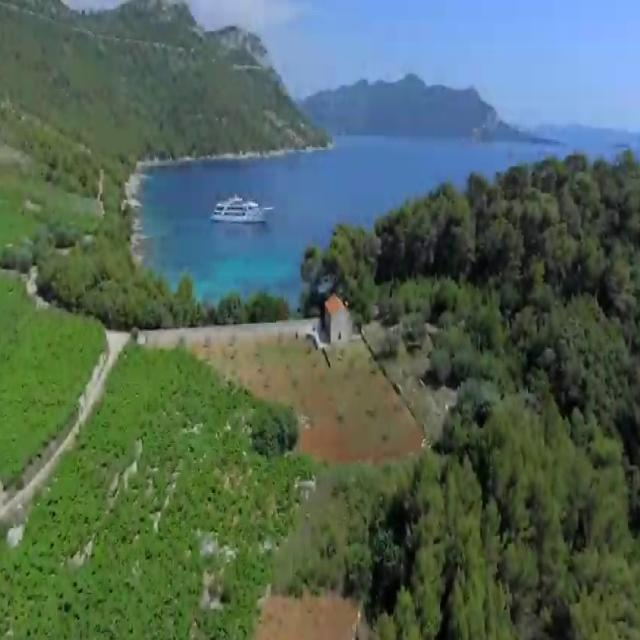passenger ship: (212, 188, 273, 228)
